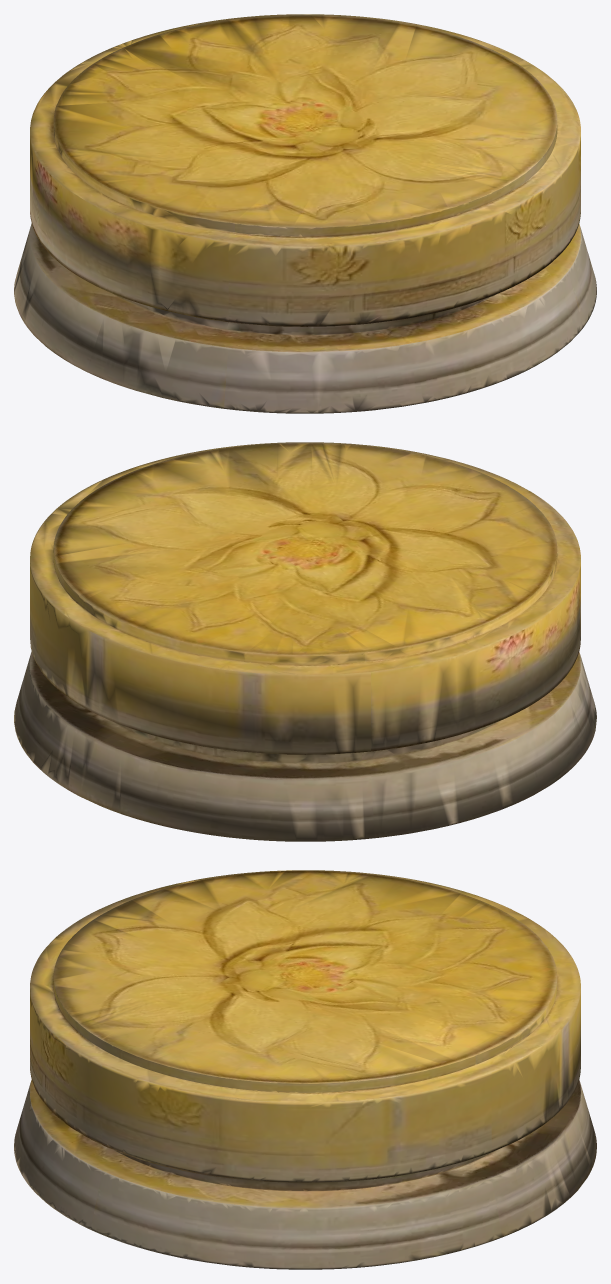
File: cushion.glb
3 views of the same model, one above another, from view 1: azimuth 30°, elevation 25°; view 2: azimuth 150°, elevation 25°; view 3: azimuth 270°, elevation 25° (orthographic).
Size of the model in its own units: 2 by 0.6419 by 2.
1 material, 1 textured.
